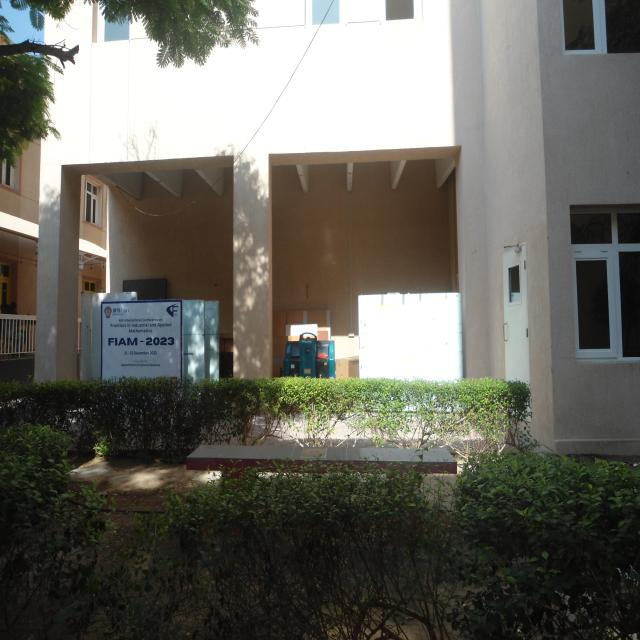bush: (0, 425, 640, 638), (0, 378, 531, 460)
door: (502, 243, 530, 383)
